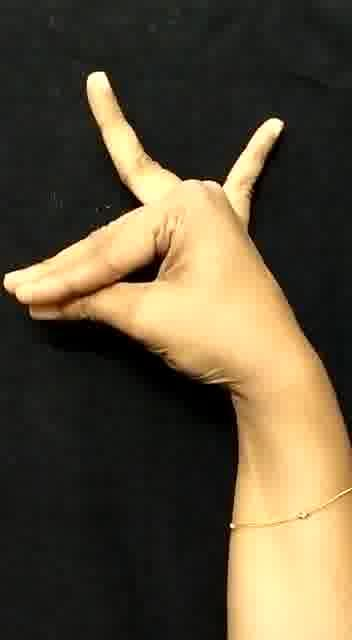katak: (7, 56, 299, 422)
